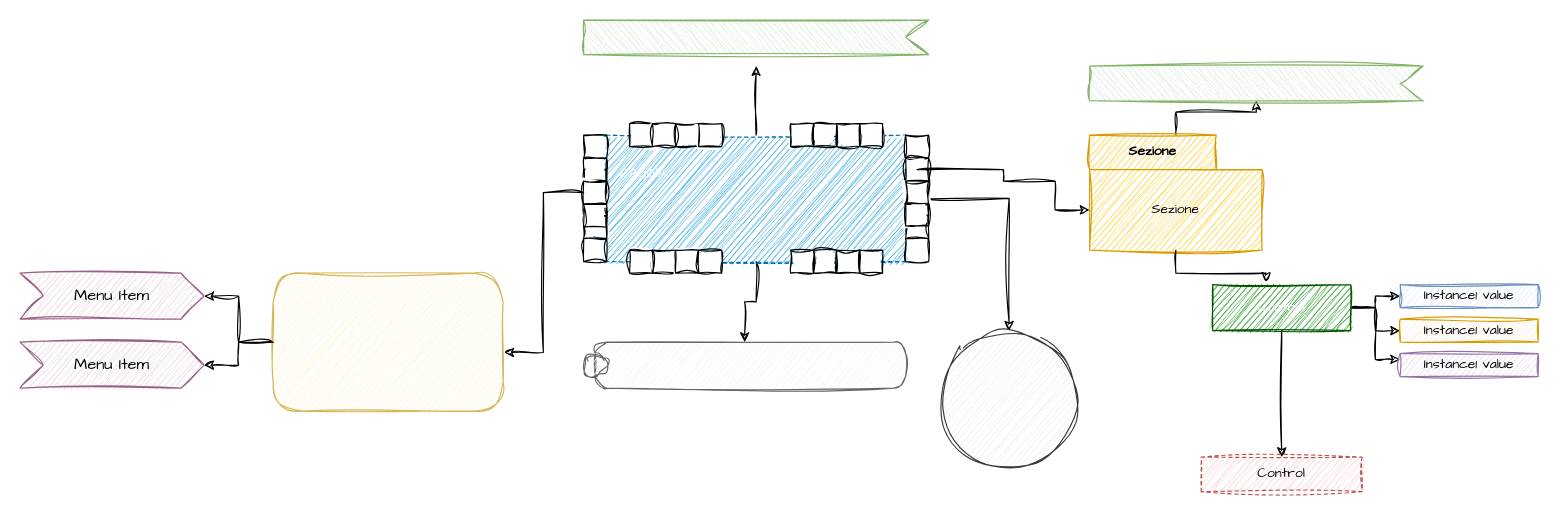
Image size: 1558x512. Some labels were removed from this diagram. Here are the shapes that lost their labels. From the top down, the centre of each, then its label:
(x=755, y=37): Toolbar pagina
(x=1255, y=83): Toolbar Section
(x=387, y=341): Menu
(x=744, y=364): Status Bar Pagina
(x=1008, y=399): Messaggistica
